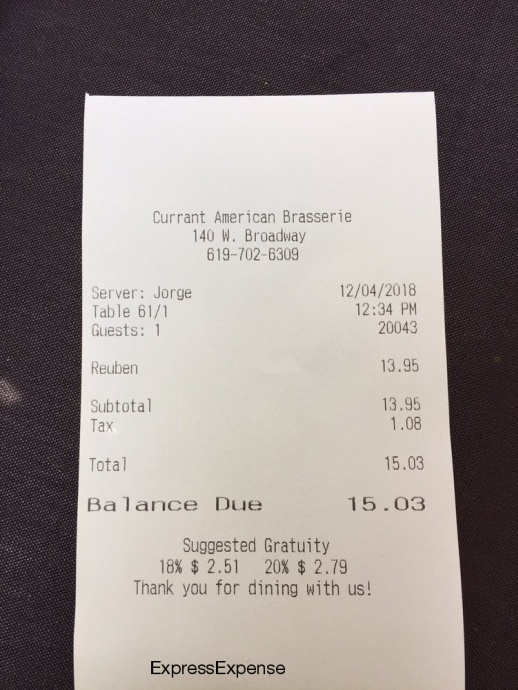Additional details: (126, 530, 383, 604)
Purchase summary: (80, 284, 434, 529)
Receipt: (80, 91, 466, 690)
Shop details: (128, 201, 362, 268)
